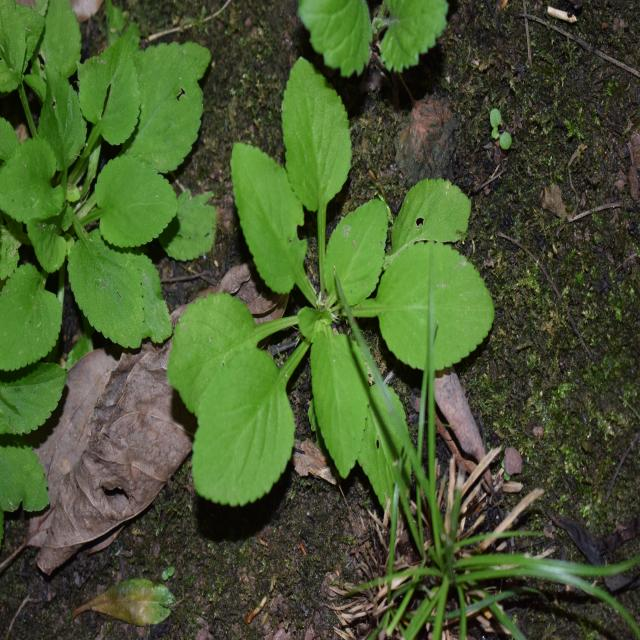Viola: (202, 89, 467, 499), (0, 6, 207, 381)
